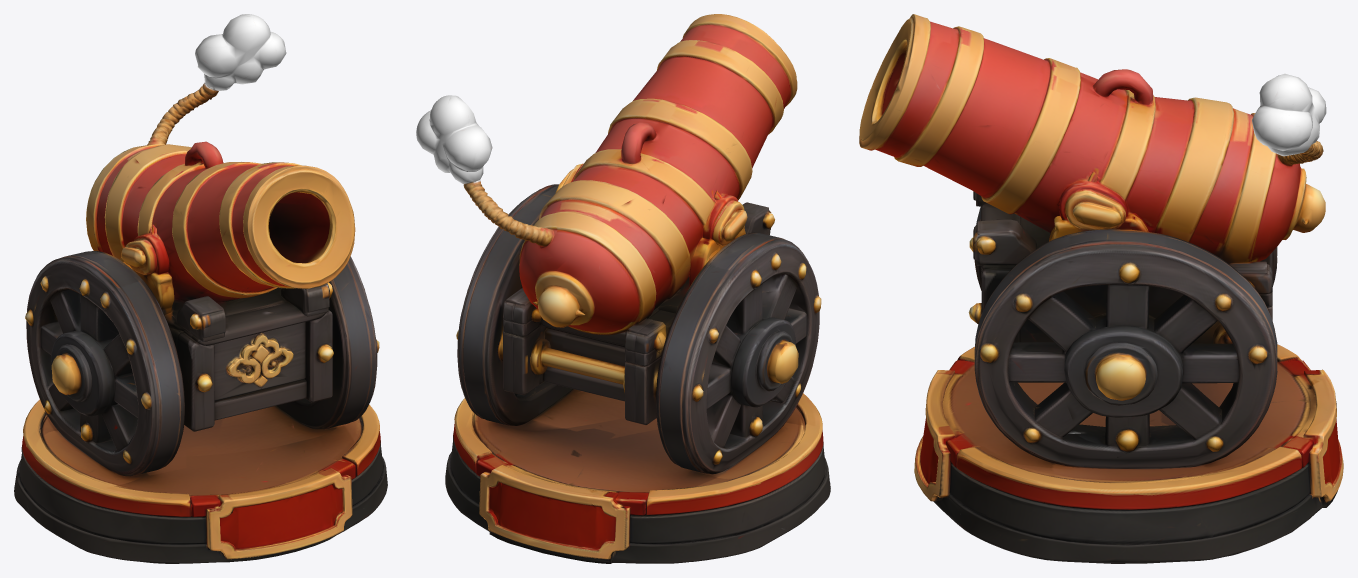
File: child-ming-r-mobile50.glb
The picture shows the model from 3 angles, left to right: view 1: azimuth 30°, elevation 25°; view 2: azimuth 150°, elevation 25°; view 3: azimuth 270°, elevation 25°; orthographic projection. The views are drawn at different scales.
Visible parts, largest first — view 1: node_0; view 2: node_0; view 3: node_0.
Part boxes in pixels (x1,y1,x2,y2): node_0: [14, 14, 387, 563]; node_0: [416, 14, 830, 563]; node_0: [859, 14, 1343, 563].
Size of the model in its own units: 0.7258 by 0.859 by 0.8146.
Materials: 1 (1 with a texture image).
